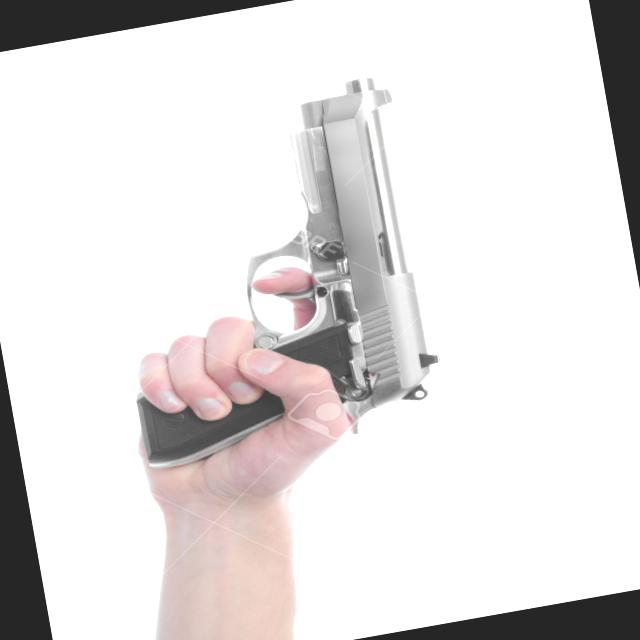handgun: (74, 70, 456, 483)
